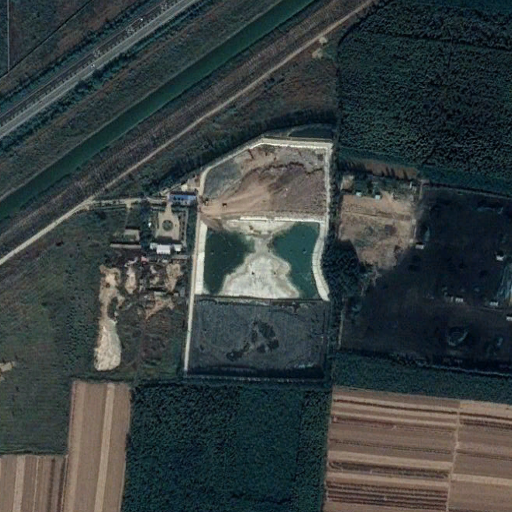lf: (185, 139, 332, 383)
